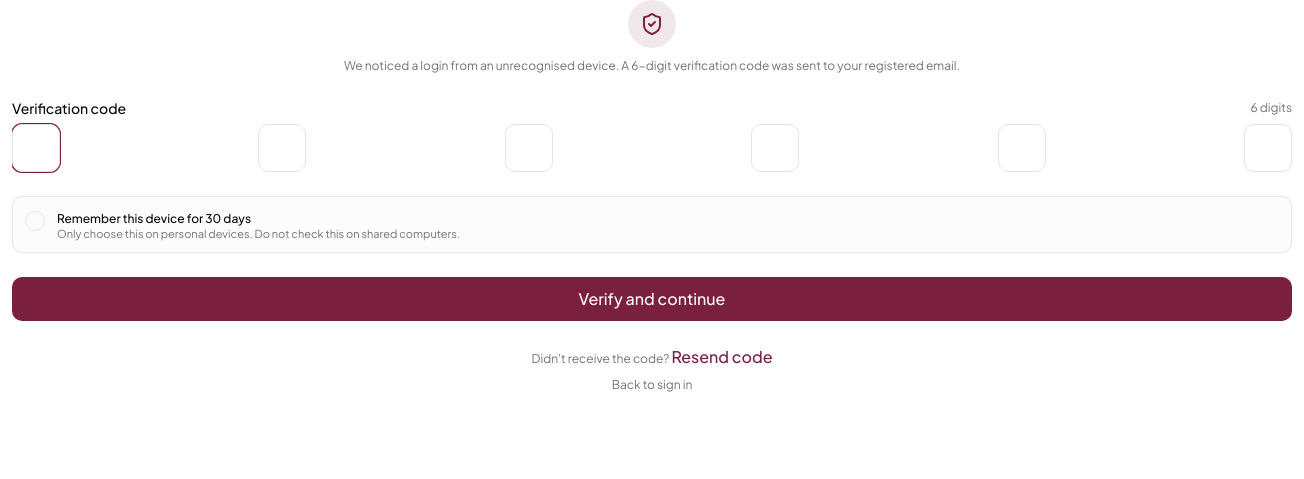
Test: VerifyDeviceForm (F10) › handles 429 too_many_requests on resend and displays cooldown banner
The image size is (1304, 479).
Click the button "Resend code" at (722, 357), box [671, 345, 772, 369]
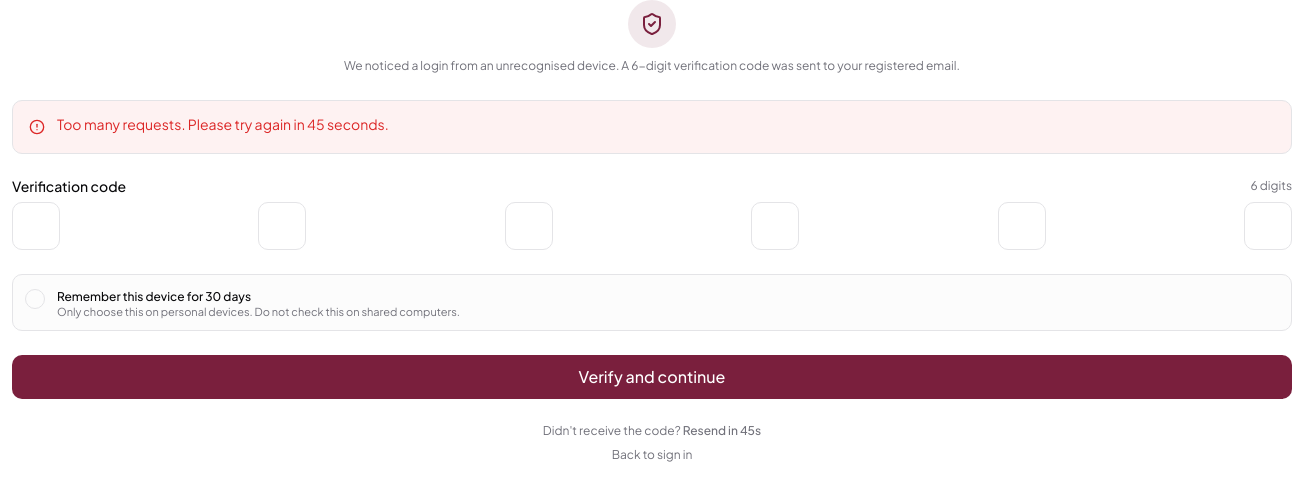
Expected: the text "Too many requests. Please try again in 45 seconds." is shown, [57, 114, 389, 132]
Expected: the text "Resend in 45s" is shown, [683, 423, 761, 438]
